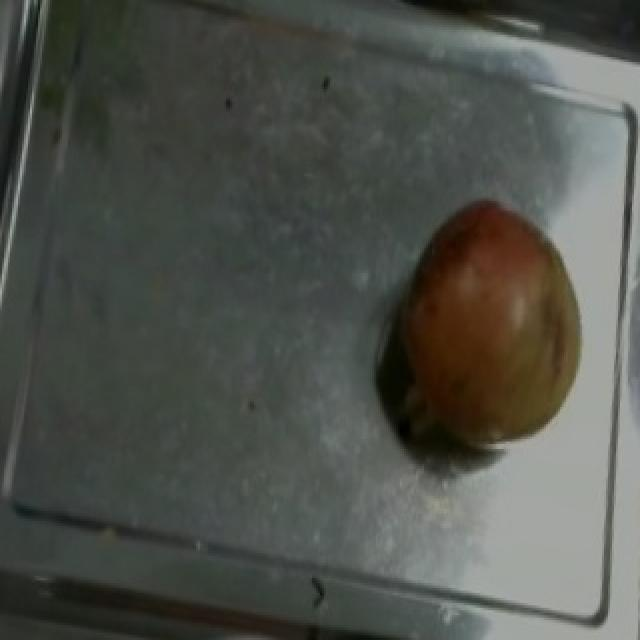fruit: (386, 181, 590, 449)
